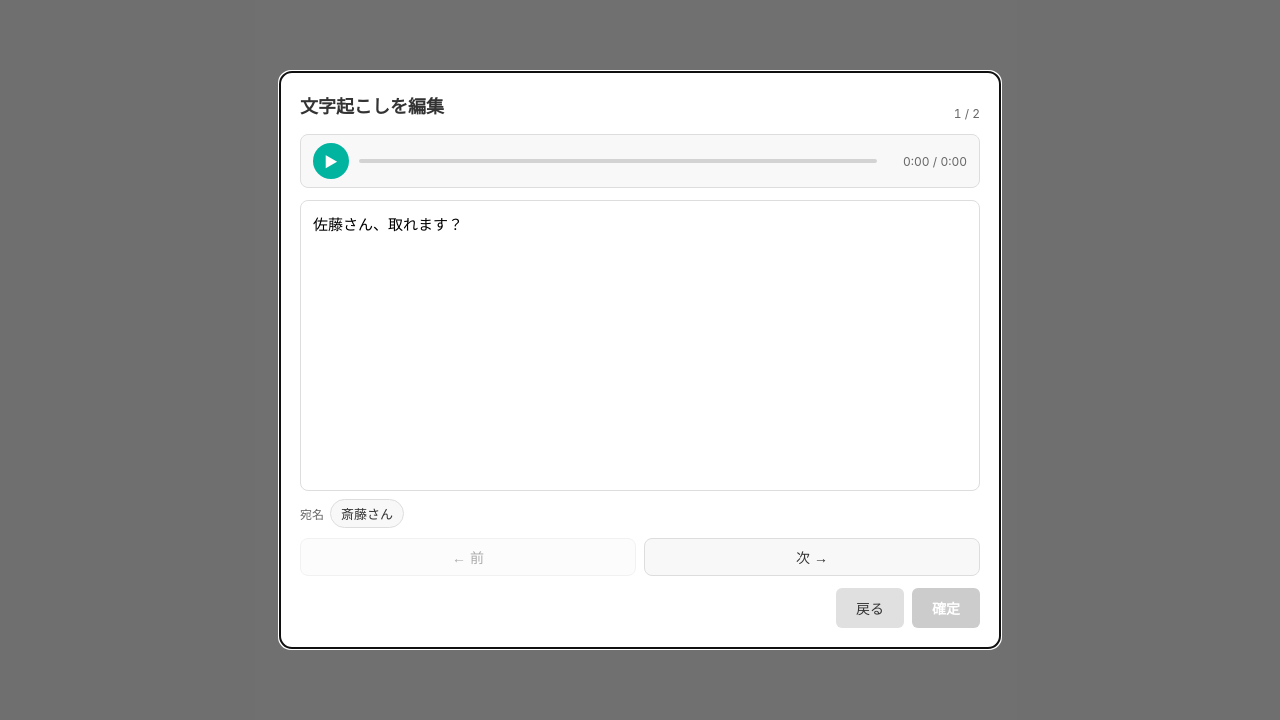
Test: VoiceEditModal — 宛名の候補 › ★ 押しただけでは保存しない (確定 / 移動で保存)
The image size is (1280, 720).
Click the button "斎藤さん" at (367, 514), box [330,499,404,528]
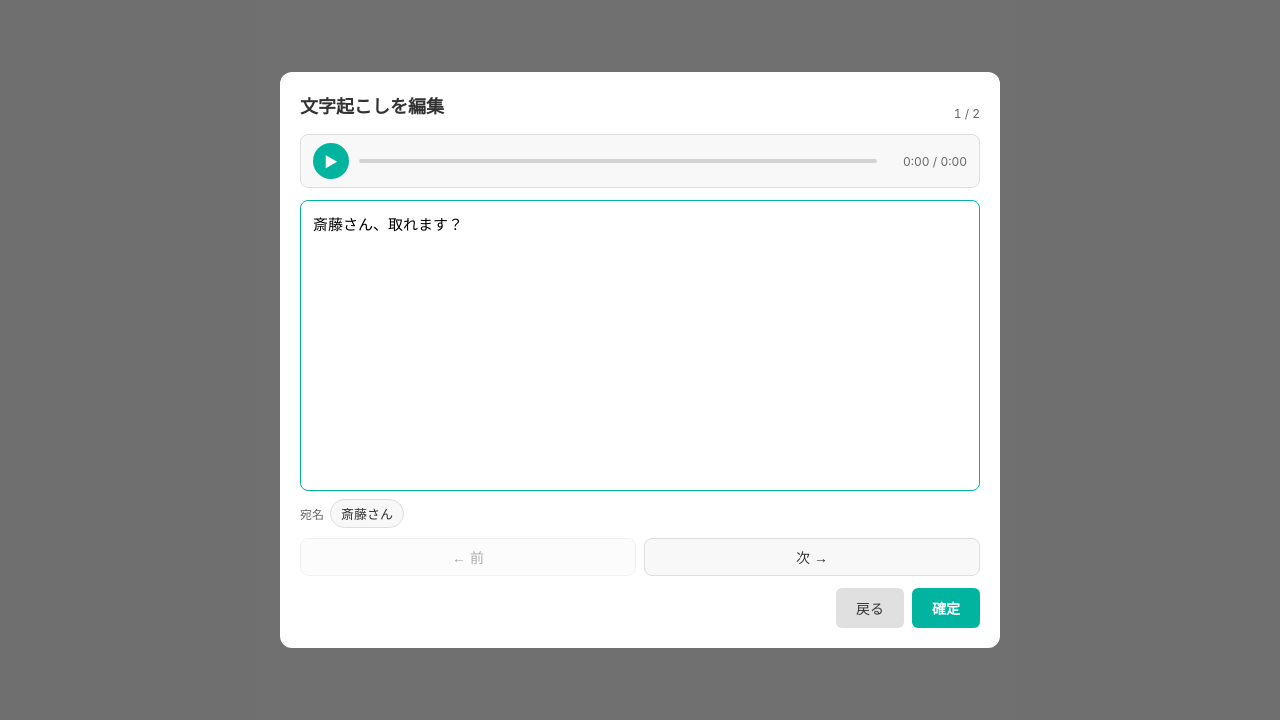
Expected: the button "確定" is enabled, [912,588,980,628]
